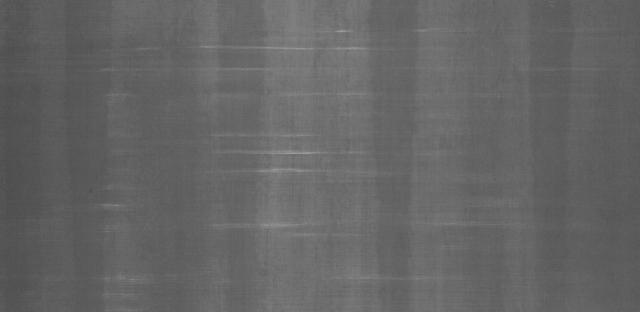waist_folding: (71, 2, 457, 303)
